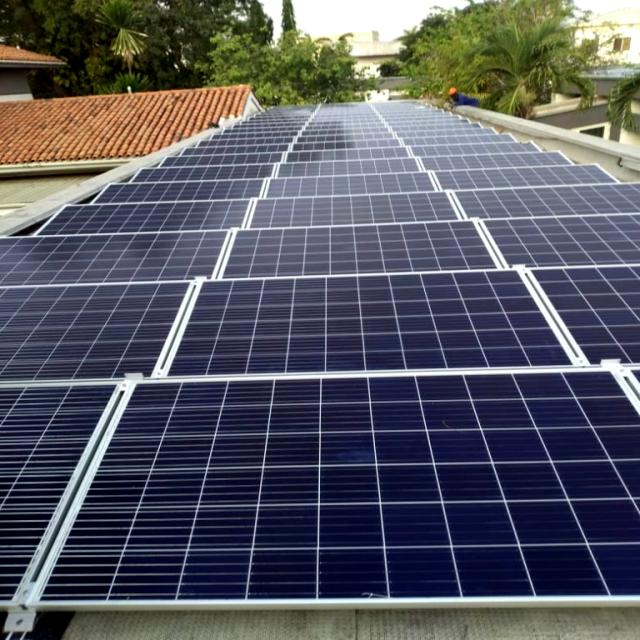crack: (69, 375, 640, 640), (127, 269, 618, 391), (192, 212, 540, 280), (0, 188, 295, 244), (459, 213, 640, 279), (446, 182, 640, 230), (248, 176, 476, 202)
